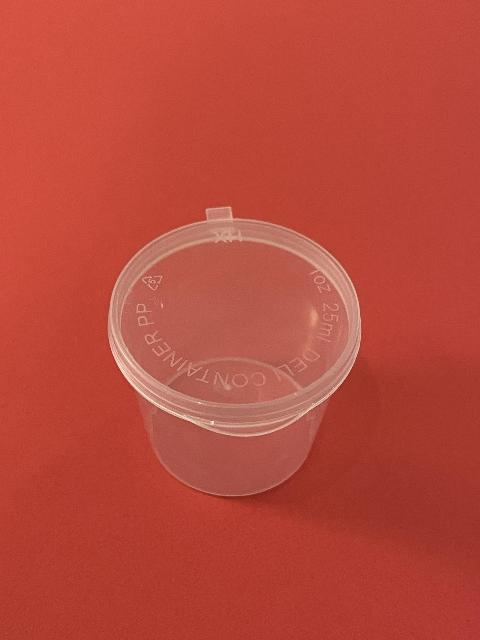plasticcontainer: (106, 204, 364, 500)
